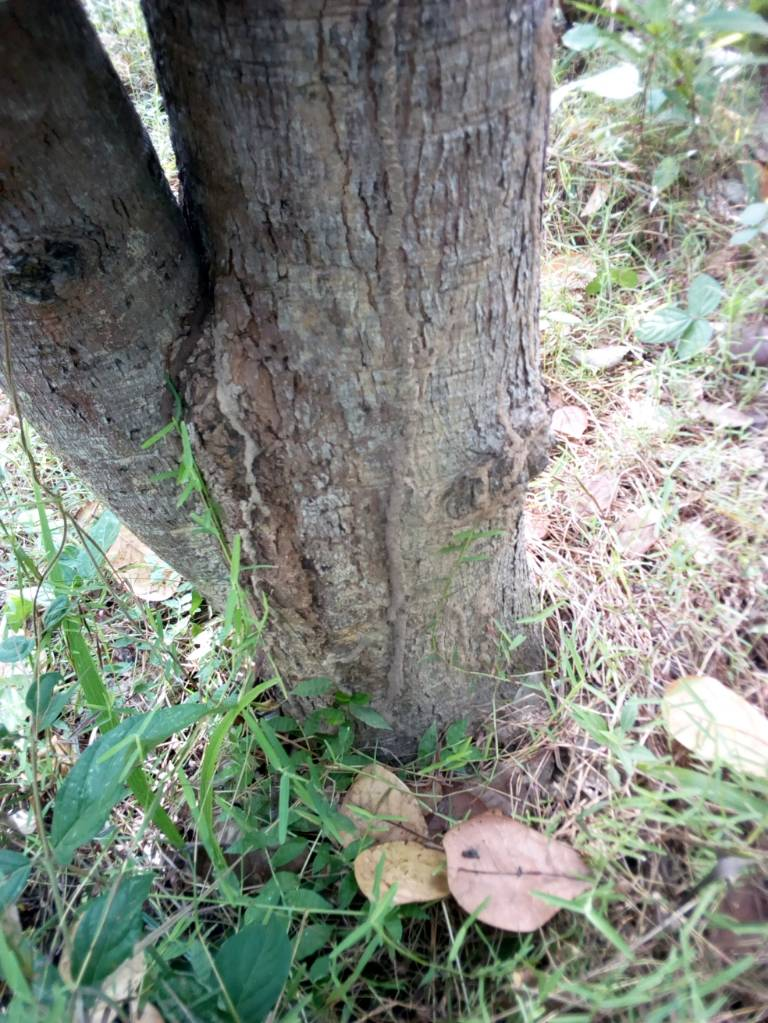Termites: (199, 239, 363, 672), (371, 1, 433, 705)
